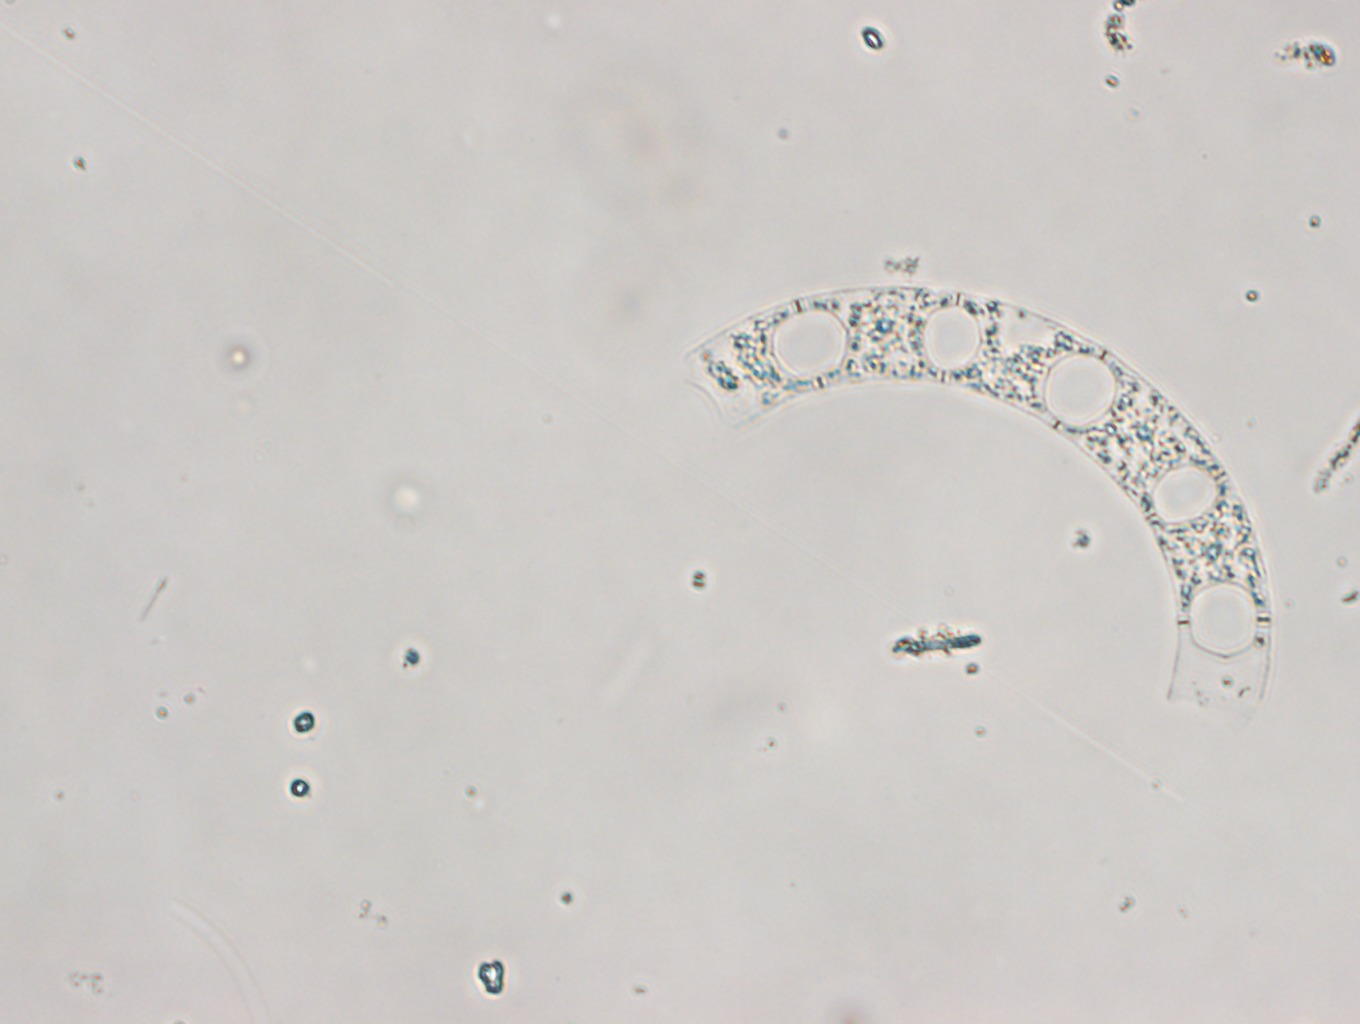eucampia: (675, 283, 1274, 715)
